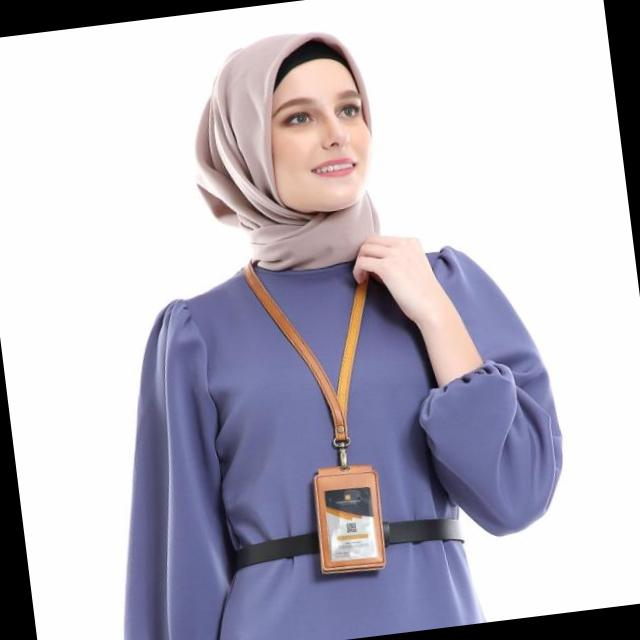id_card: (242, 240, 412, 588)
